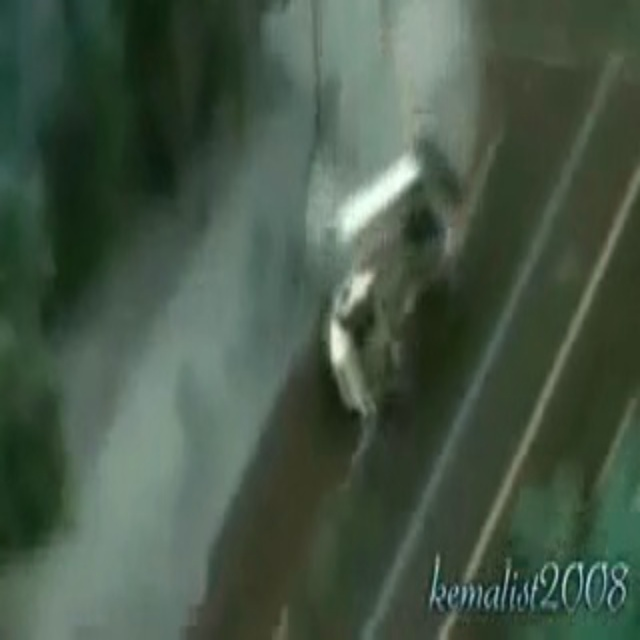acc: (279, 135, 469, 434)
